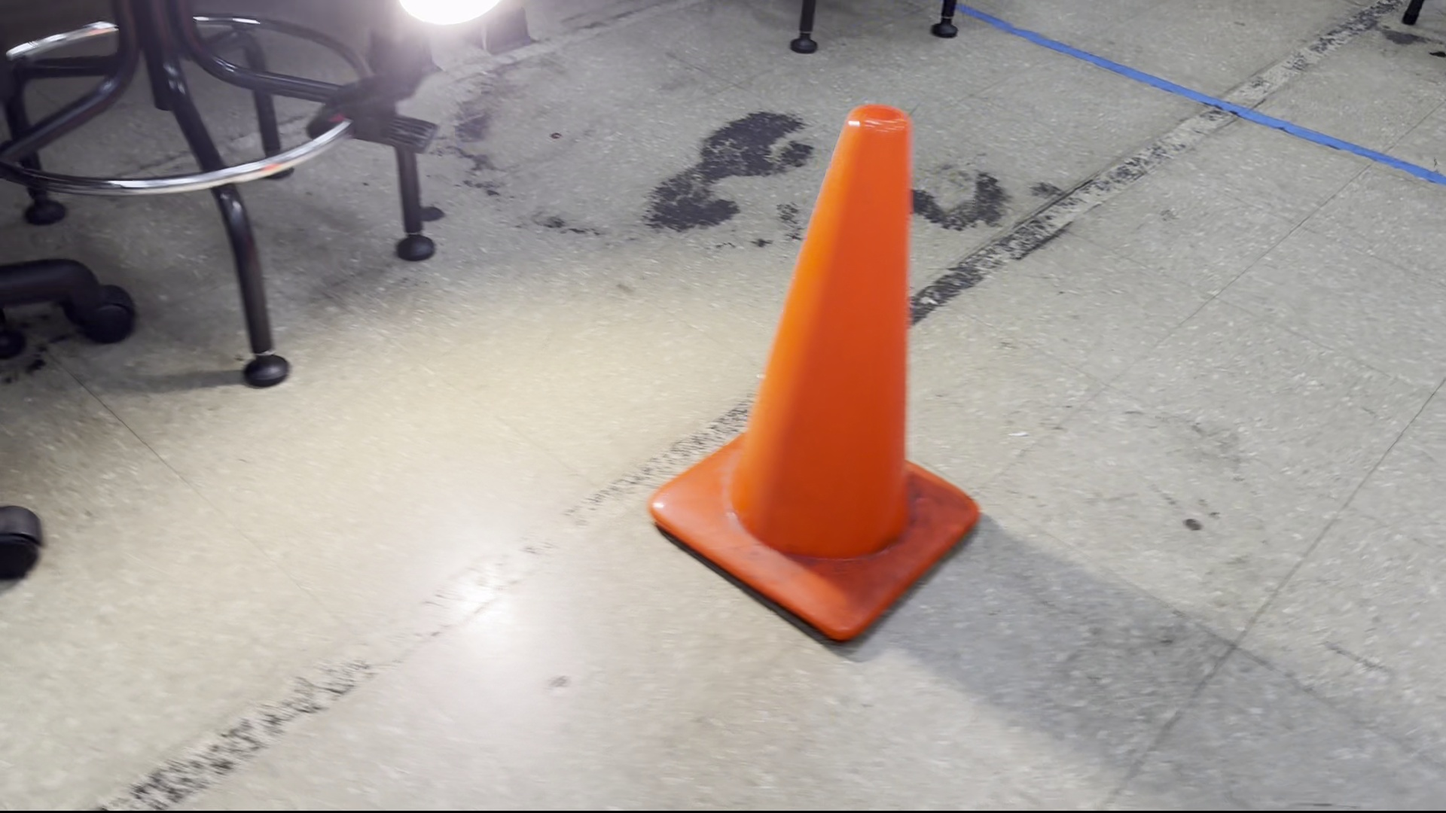traffic_cone: (647, 102, 981, 644)
